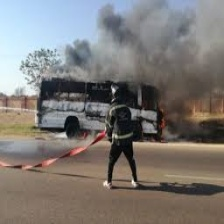smoke: (66, 3, 224, 86)
